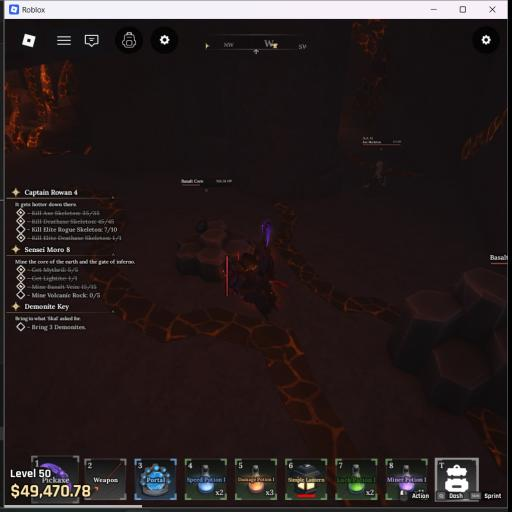player: (224, 222, 277, 318)
rock: (387, 268, 508, 415), (175, 221, 251, 282)
